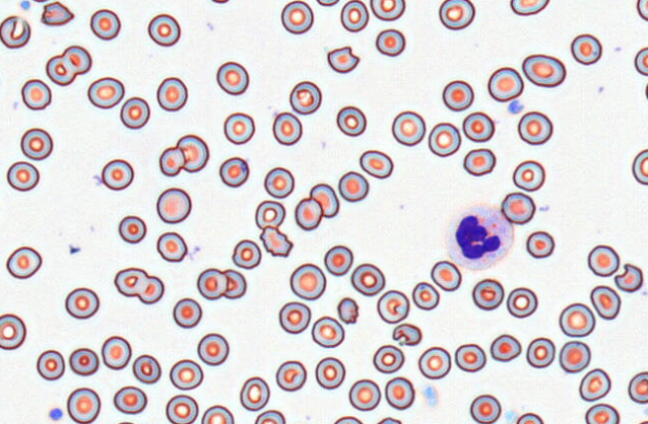GRAN: (442, 202, 516, 270)
PLT: (507, 99, 525, 114), (420, 383, 436, 397), (49, 408, 64, 421), (19, 0, 33, 10)
RBC: (521, 53, 566, 87), (289, 262, 326, 300), (558, 302, 595, 337), (156, 187, 191, 223), (66, 387, 101, 423), (487, 66, 523, 101), (391, 110, 425, 146), (87, 76, 124, 109), (176, 134, 208, 172), (350, 262, 385, 296), (517, 111, 552, 145), (6, 246, 42, 279), (428, 122, 461, 157), (501, 191, 535, 224), (376, 289, 409, 323), (216, 61, 249, 95), (280, 0, 313, 34), (64, 287, 99, 319), (438, 0, 475, 30), (418, 346, 451, 379), (348, 378, 381, 411), (20, 127, 53, 160), (147, 13, 180, 46), (169, 358, 203, 390), (579, 367, 611, 401), (289, 80, 321, 114), (239, 376, 270, 411), (156, 76, 187, 111), (259, 225, 292, 257), (311, 315, 344, 347), (278, 301, 311, 333), (512, 159, 545, 191), (471, 278, 504, 310), (197, 332, 229, 365), (587, 244, 619, 277), (590, 285, 621, 319), (101, 158, 133, 190), (570, 33, 602, 65), (119, 96, 150, 129), (6, 160, 39, 191), (559, 340, 590, 373), (309, 183, 339, 217), (384, 376, 414, 410), (101, 335, 131, 369), (272, 111, 302, 145), (263, 166, 294, 198), (506, 286, 537, 318), (338, 170, 369, 202), (462, 111, 494, 142), (223, 112, 254, 144), (89, 8, 120, 40), (315, 356, 345, 389), (0, 15, 30, 48), (114, 267, 148, 296), (113, 385, 147, 414), (359, 149, 393, 178), (0, 313, 26, 350), (156, 231, 187, 262), (430, 260, 461, 291), (275, 360, 306, 391), (442, 80, 473, 111), (323, 244, 353, 276), (21, 78, 51, 110), (165, 394, 198, 423), (46, 54, 76, 85), (197, 268, 227, 299), (219, 156, 249, 187), (172, 297, 202, 328), (336, 105, 366, 136), (454, 343, 486, 372), (372, 344, 404, 373), (469, 394, 501, 423), (340, 0, 369, 32), (294, 197, 322, 230), (231, 239, 261, 269), (254, 200, 285, 229), (490, 333, 521, 362), (526, 337, 555, 368), (36, 349, 65, 380), (68, 347, 99, 376), (463, 148, 495, 176), (62, 45, 92, 74), (132, 354, 161, 384), (375, 28, 405, 56), (411, 281, 439, 310), (118, 215, 146, 243), (526, 230, 554, 258), (137, 275, 164, 304), (158, 146, 184, 176), (585, 403, 619, 424), (370, 0, 405, 20), (222, 269, 246, 298), (627, 371, 648, 403), (201, 404, 234, 424), (510, 0, 549, 15), (632, 148, 647, 185), (254, 409, 285, 423), (634, 46, 648, 76), (515, 412, 544, 423), (333, 415, 363, 424), (636, 0, 648, 21), (375, 416, 402, 424), (315, 0, 339, 6), (207, 0, 231, 4), (0, 67, 3, 96), (114, 421, 139, 424), (645, 80, 648, 102), (31, 0, 50, 2)
Schistocyte: (326, 43, 362, 73), (40, 0, 77, 29), (613, 263, 644, 293), (391, 323, 424, 345), (336, 295, 360, 325)
